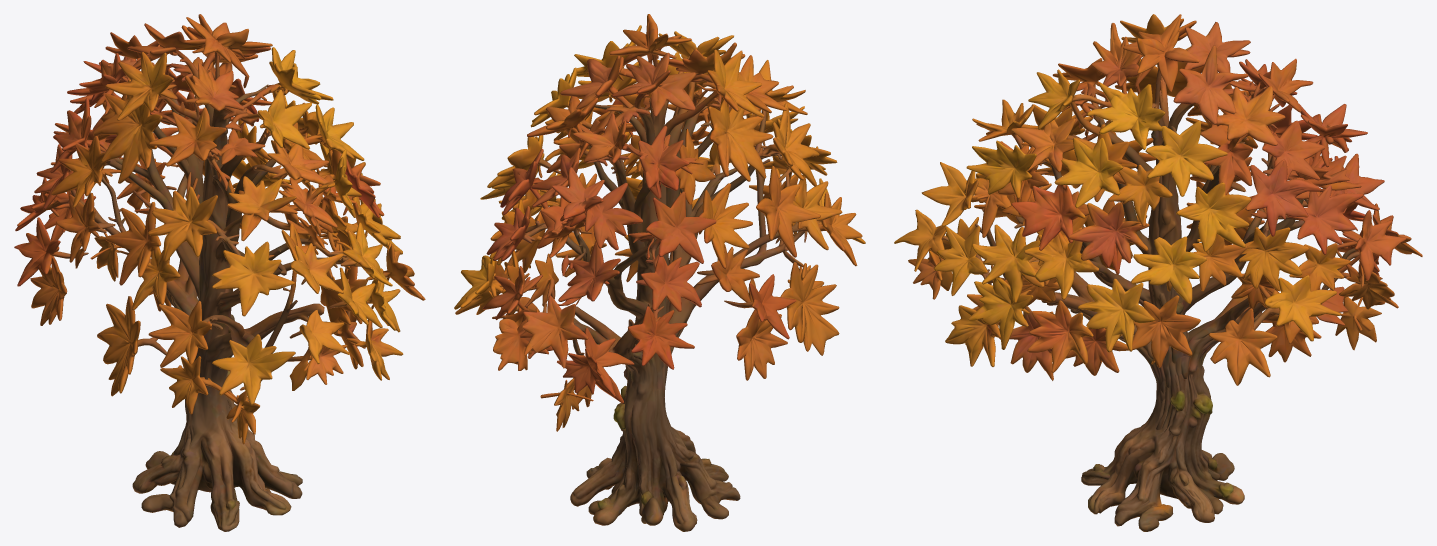
3 renders of one model, left to right at view 1: azimuth 30°, elevation 25°; view 2: azimuth 150°, elevation 25°; view 3: azimuth 270°, elevation 25°, orthographic.
Parts seen in each view (by area): view 1: tripo_node_6eba8b70-fb02-4f00-b709-a1915a9fc22c; view 2: tripo_node_6eba8b70-fb02-4f00-b709-a1915a9fc22c; view 3: tripo_node_6eba8b70-fb02-4f00-b709-a1915a9fc22c.
Boxes of the visible parts, <box> form: tripo_node_6eba8b70-fb02-4f00-b709-a1915a9fc22c: <box>14,14,425,531</box>; tripo_node_6eba8b70-fb02-4f00-b709-a1915a9fc22c: <box>454,14,865,531</box>; tripo_node_6eba8b70-fb02-4f00-b709-a1915a9fc22c: <box>894,14,1422,531</box>.
Size of the model in its own units: 0.7114 by 0.9733 by 0.9841.
1 material, 1 textured.
